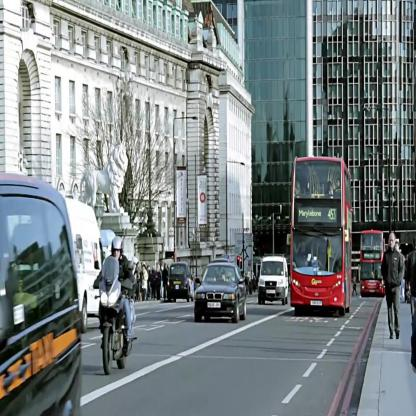bus: (290, 158, 351, 318), (360, 229, 384, 298)
car: (194, 263, 246, 324), (258, 256, 288, 306), (167, 261, 196, 303)
motorcycle: (93, 236, 136, 375)
truck: (64, 199, 105, 333)
